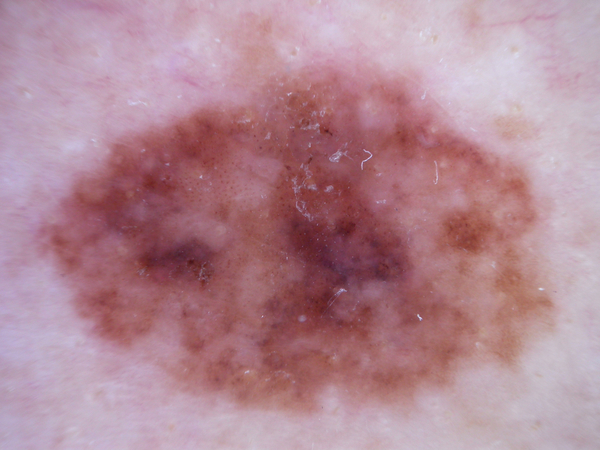Detected Lesion: (36, 59, 558, 415)
